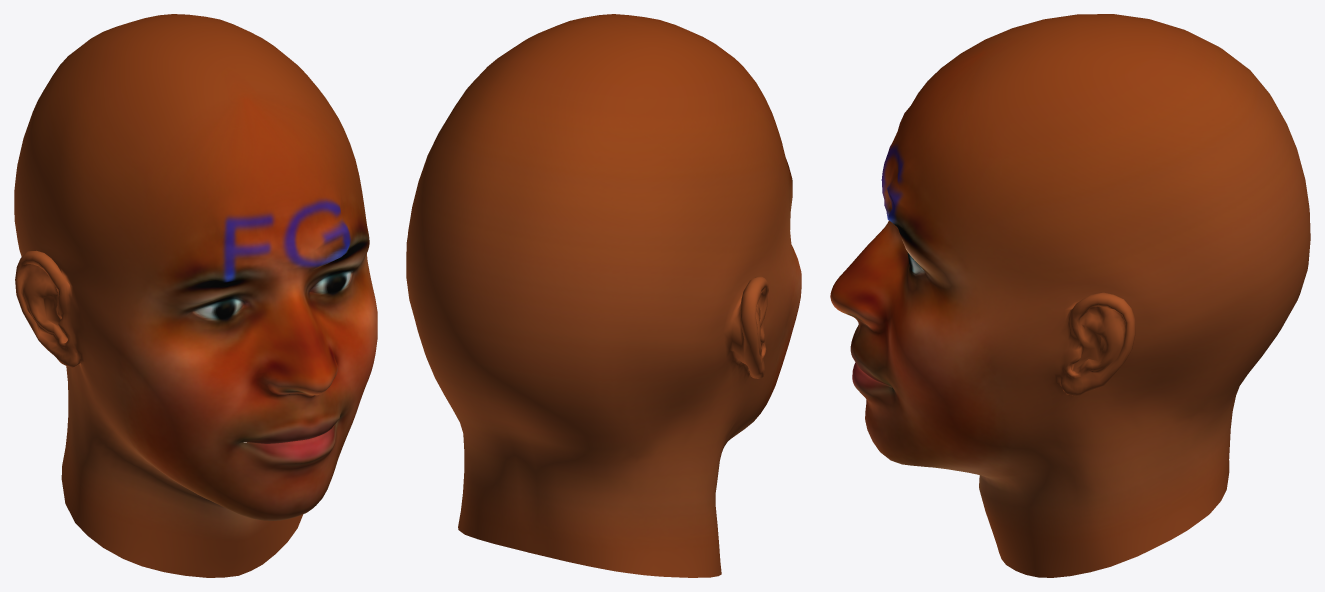
The model's file is avg_anyrace_female_05.obj.
3 views of the same model, side by side, from view 1: azimuth 30°, elevation 25°; view 2: azimuth 150°, elevation 25°; view 3: azimuth 270°, elevation 25° (orthographic). The views are drawn at different scales.
Visible parts, largest first — view 1: HeadHires; view 2: HeadHires; view 3: HeadHires.
Boxes of the visible parts, x1,y1,x2,y2 form: HeadHires: (14,14,377,577); HeadHires: (406,14,801,577); HeadHires: (830,14,1310,577).
Bounding box in the file's own units: 188 × 283 × 235.
1 material, 1 textured.
